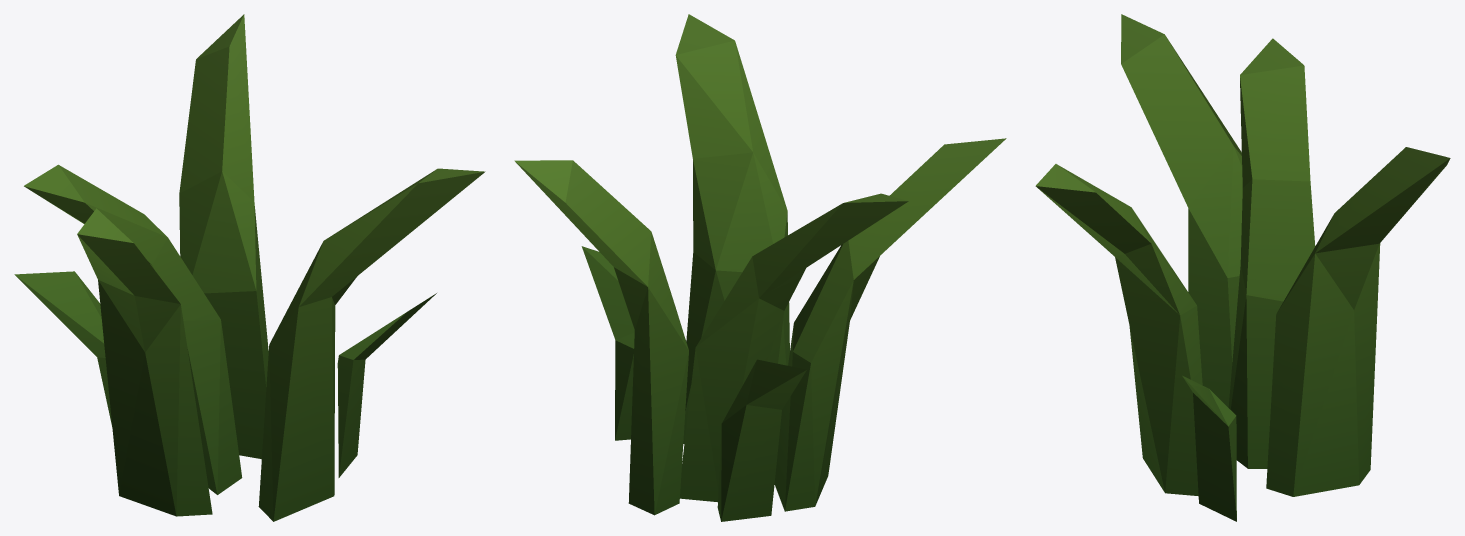
File: Grass_2.fbx
3 renders of one model, left to right at view 1: azimuth 30°, elevation 25°; view 2: azimuth 150°, elevation 25°; view 3: azimuth 270°, elevation 25°, orthographic.
Parts seen in each view (by area): view 1: Grass_2; view 2: Grass_2; view 3: Grass_2.
Part boxes in pixels (x1,y1,x2,y2): Grass_2: (14,14,485,521); Grass_2: (514,14,1006,521); Grass_2: (1035,14,1450,521).
Bounding box in the file's own units: 38.51 × 33.82 × 35.24.
